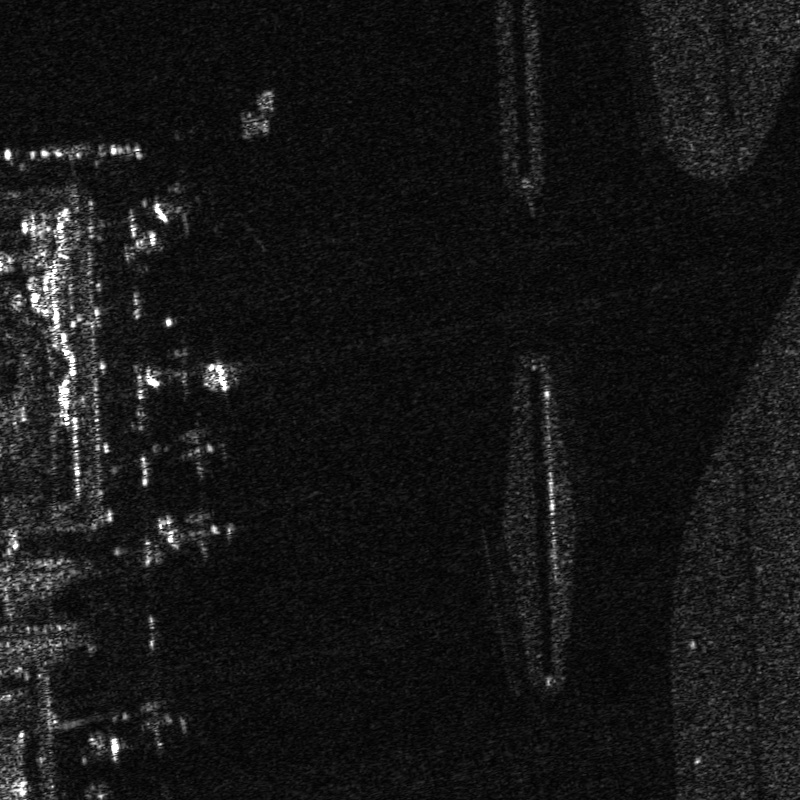A220: (141, 328, 247, 398), (147, 500, 247, 567), (146, 423, 245, 487), (102, 694, 198, 759)
